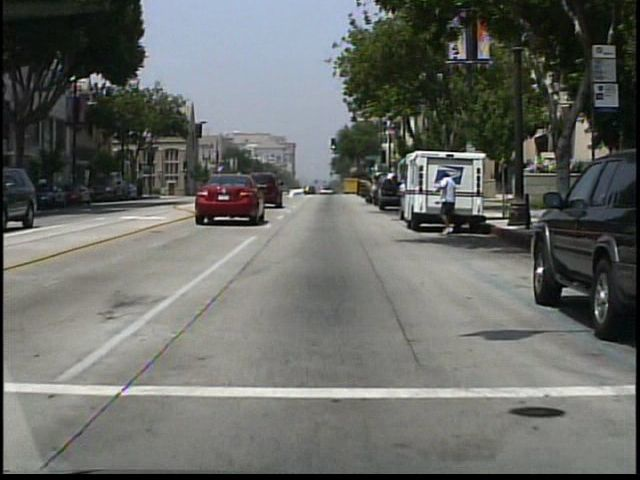person: (433, 170, 465, 238), (375, 173, 376, 209)
